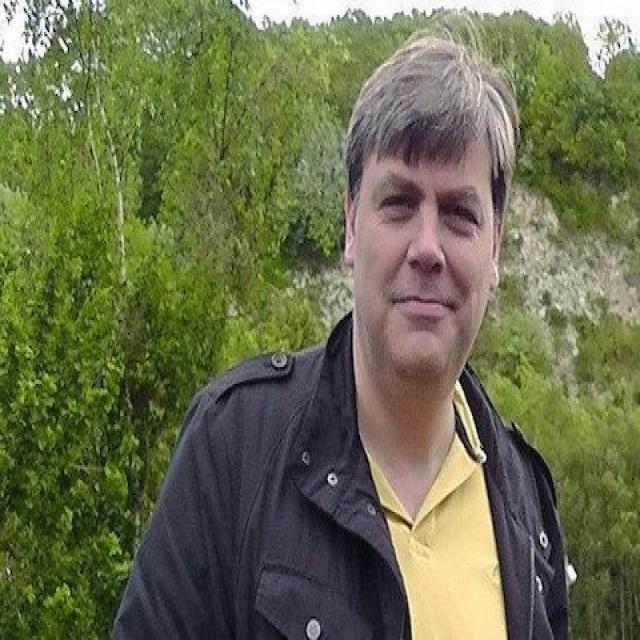human: (113, 48, 582, 640)
